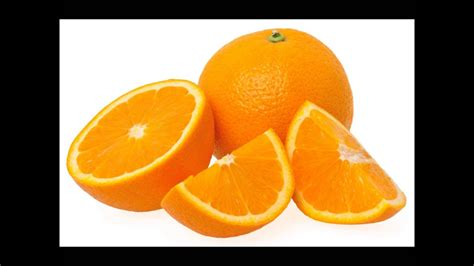orange: (196, 24, 354, 152)
